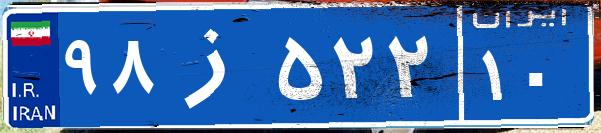0: (525, 38, 570, 115)
1: (475, 38, 525, 113)
2: (385, 28, 445, 110), (330, 28, 385, 110)
5: (273, 28, 330, 110)
8: (110, 28, 158, 105)
9: (57, 26, 110, 107)
ز: (158, 15, 273, 115)
